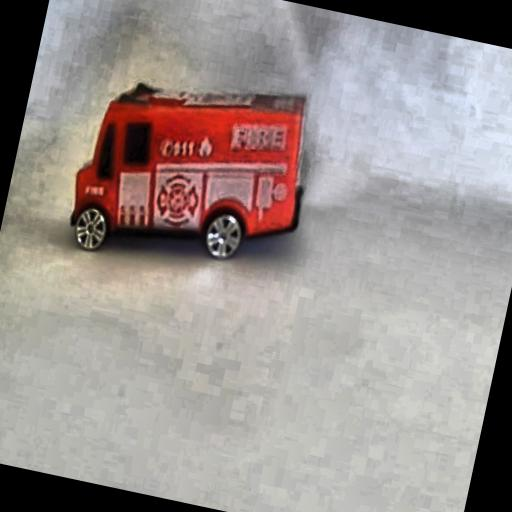fire_truck: (54, 51, 327, 294)
